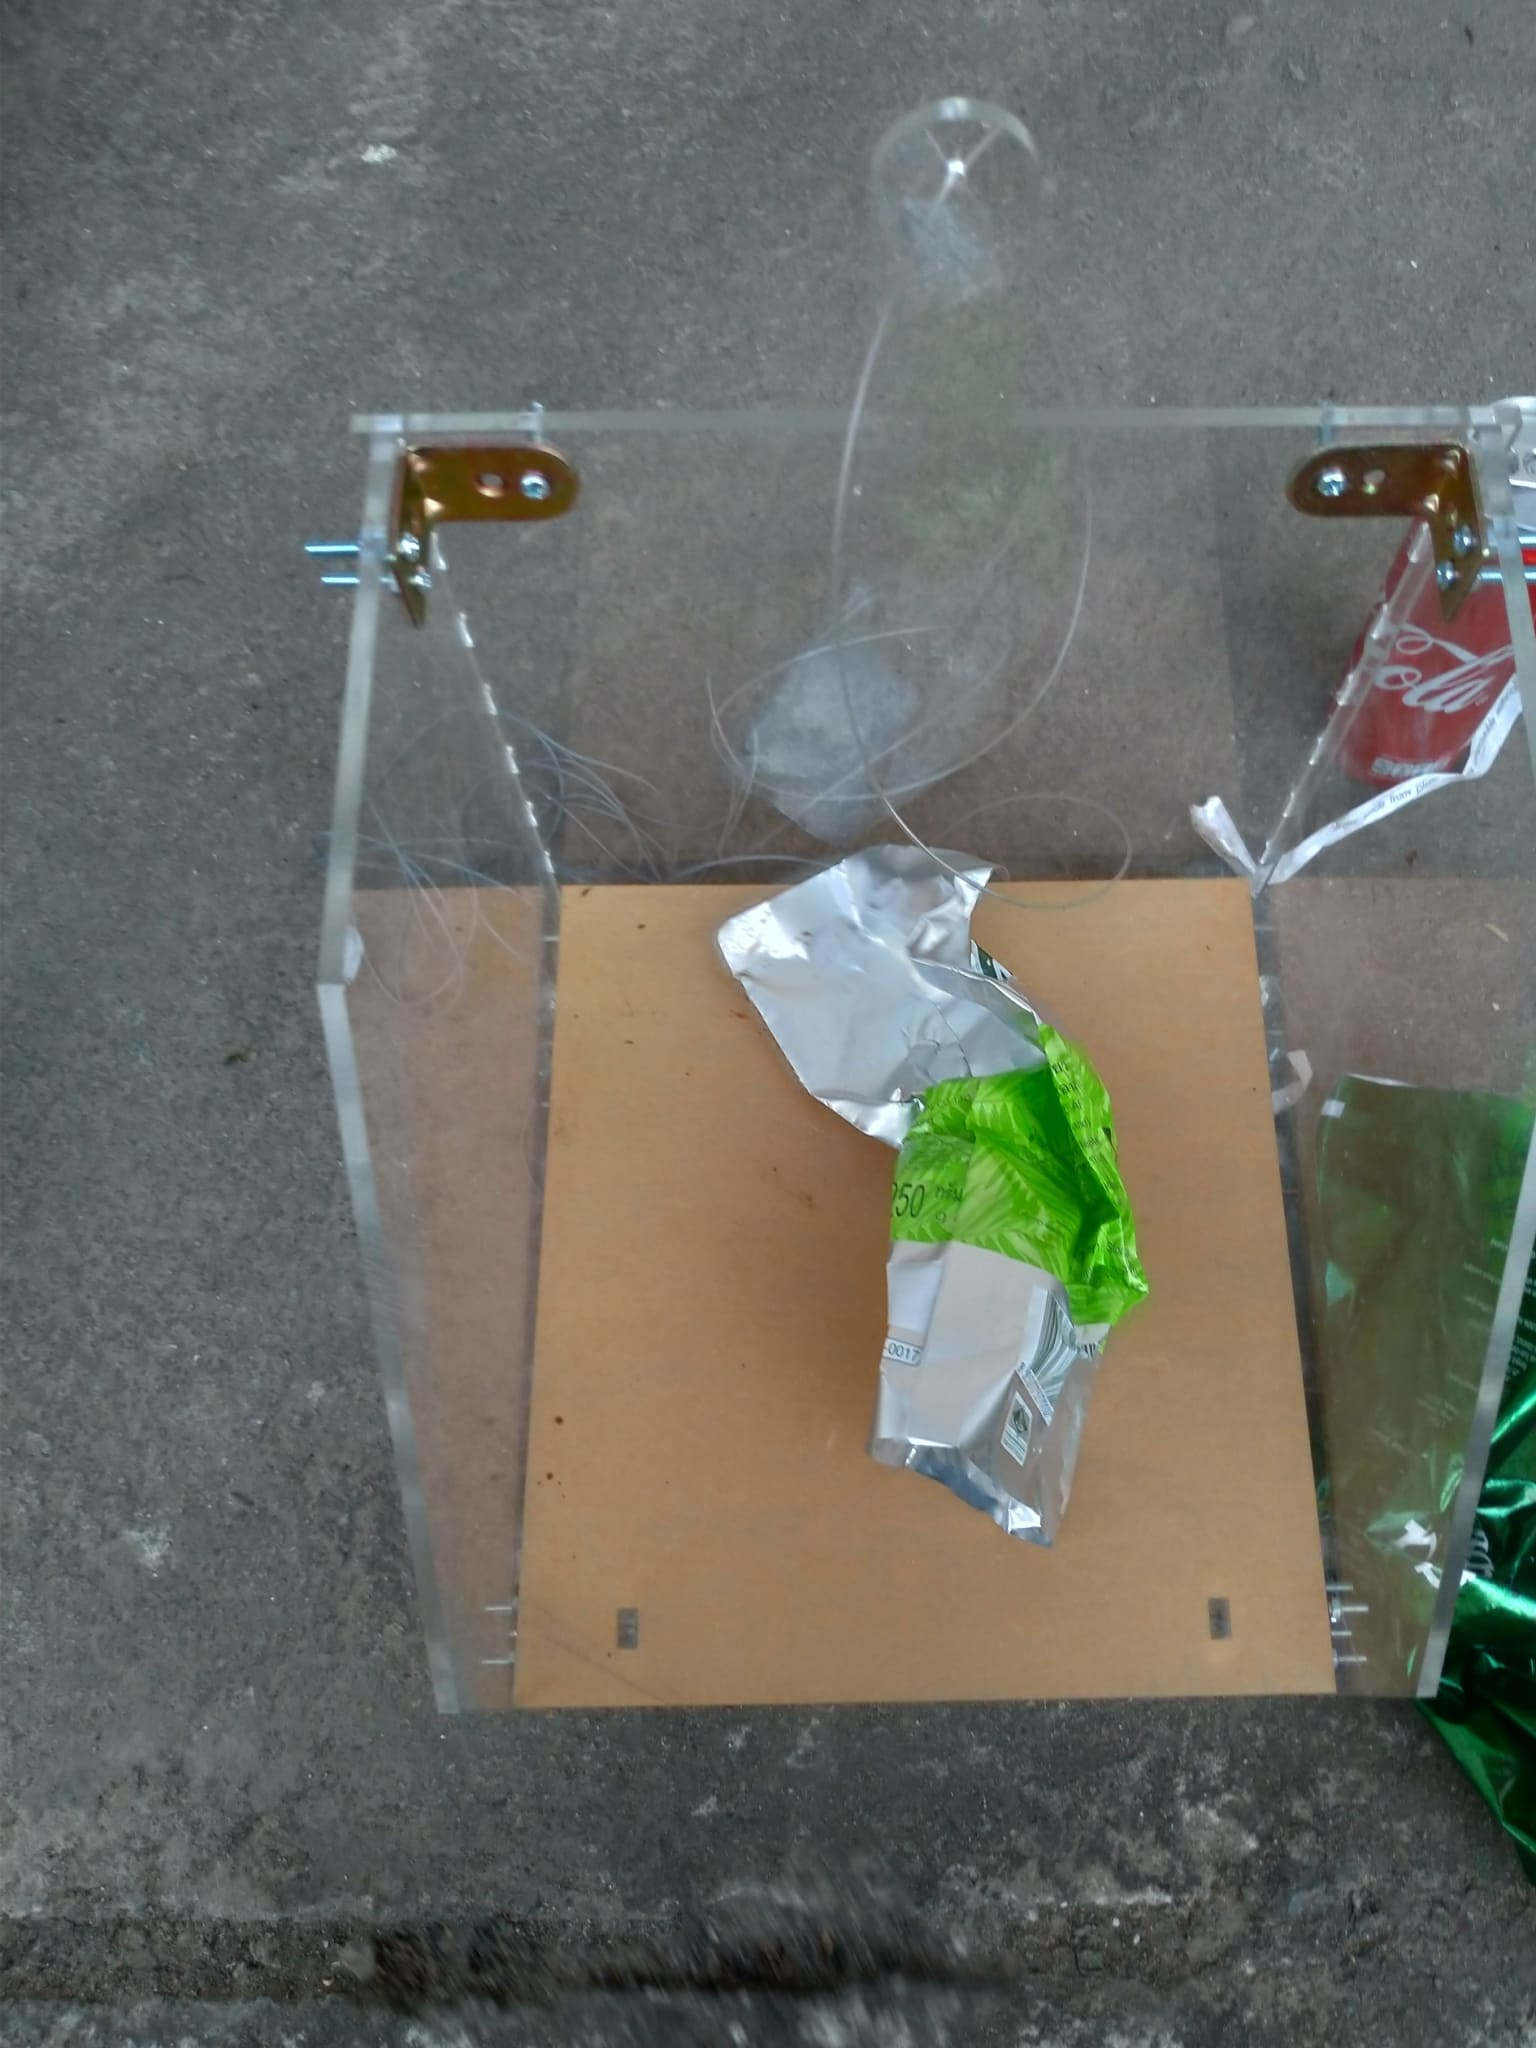AlCan: (1347, 398, 1536, 768)
Others: (713, 842, 1150, 1542), (1310, 1077, 1536, 1843)
